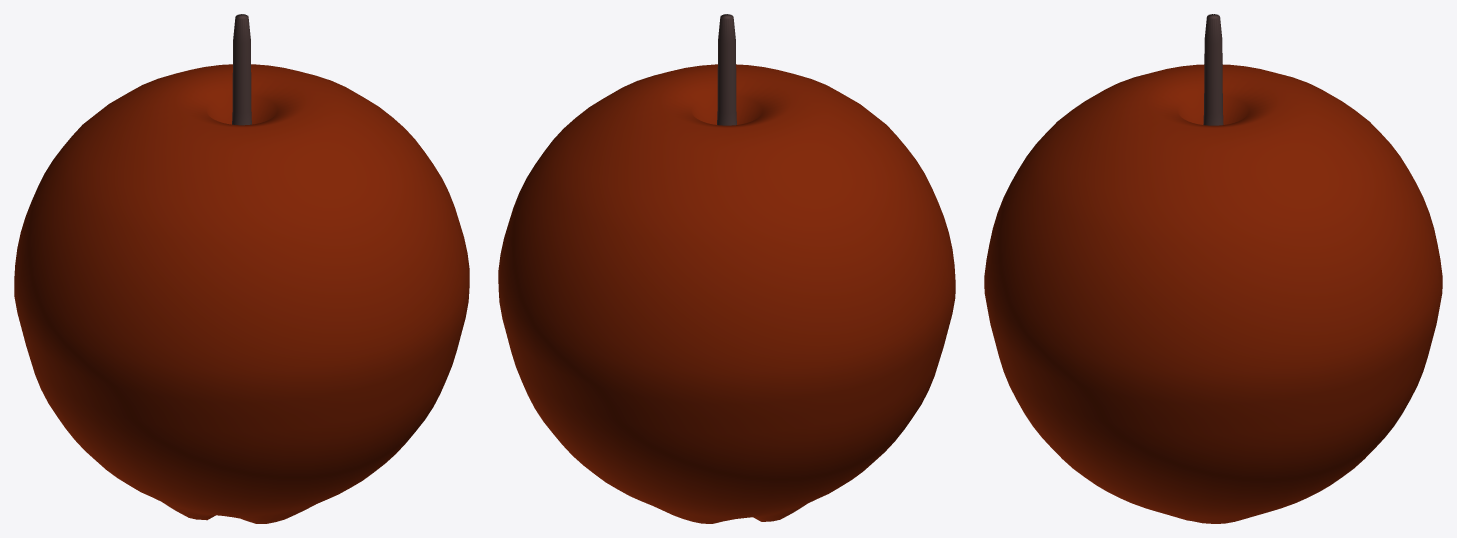
File: Manzana.fbx
3 renders of one model, left to right at view 1: azimuth 30°, elevation 25°; view 2: azimuth 150°, elevation 25°; view 3: azimuth 270°, elevation 25°, orthographic.
Parts seen in each view (by area): view 1: pSphere1; view 2: pSphere1; view 3: pSphere1.
Part boxes in pixels (box(x1,y1,x2,y2)): pSphere1: box(14, 14, 469, 523); pSphere1: box(498, 14, 955, 523); pSphere1: box(984, 14, 1442, 523).
Bounding box in the file's own units: 1.96 × 2.32 × 1.96.
